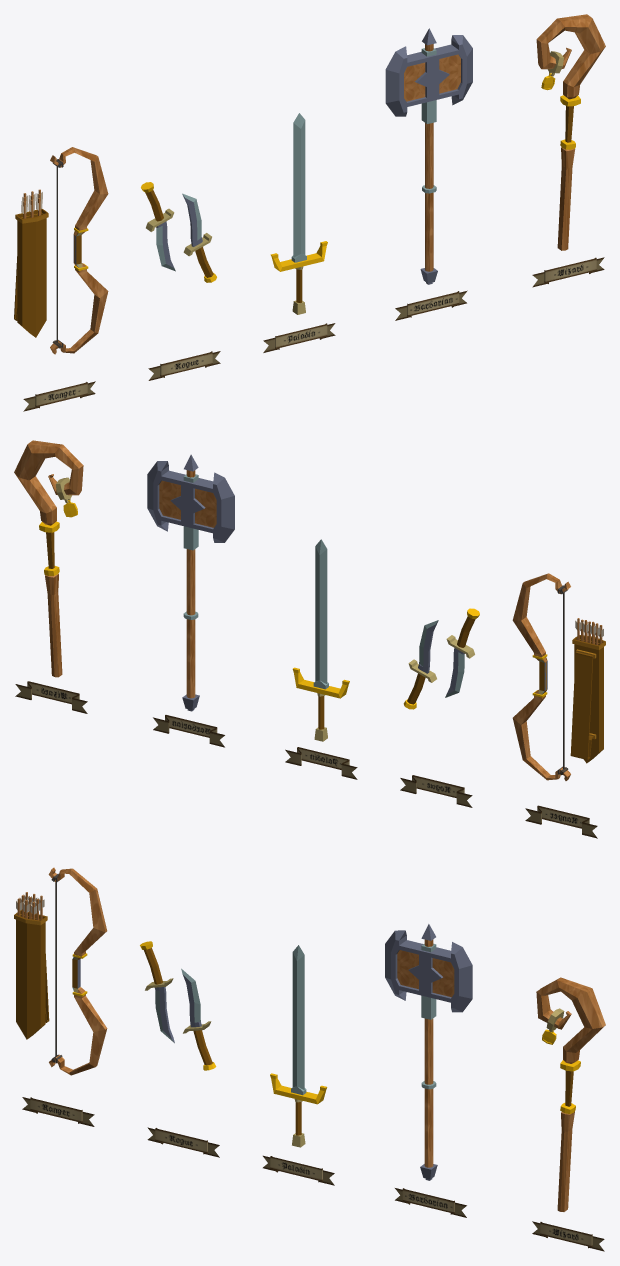
Rendered from Dnd weaps3.fbx.
3 views of the same model, one above another, from view 1: azimuth 30°, elevation 25°; view 2: azimuth 150°, elevation 25°; view 3: azimuth 330°, elevation 25° (orthographic).
Parts seen in each view (by area): view 1: Cube.011, Cube.013, Cube.025, Cube.022, Cube.005, Cube.009, Cube.020, Cube.032, Cube.007, Cube.028, Cube.033, Cube.010 (+3 smaller); view 2: Cube.011, Cube.013, Cube.022, Cube.026, Cube.005, Cube.025, Cube.009, Cube.007, Cube.020, Cube.032, Cube.033, Cube.028 (+5 smaller); view 3: Cube.011, Cube.013, Cube.025, Cube.022, Cube.005, Cube.009, Cube.028, Cube.020, Cube.007, Cube.033, Cube.032, Cube.010 (+4 smaller).
Part boxes in pixels (left/top/right/bottom): Cube.011: left=385, top=35, right=472, bottom=116; Cube.013: left=536, top=14, right=605, bottom=250; Cube.025: left=15, top=208, right=48, bottom=337; Cube.022: left=50, top=147, right=108, bottom=354; Cube.005: left=291, top=113, right=306, bottom=262; Cube.009: left=425, top=44, right=433, bottom=271; Cube.020: left=148, top=351, right=220, bottom=380; Cube.032: left=395, top=290, right=467, bottom=320; Cube.007: left=263, top=323, right=335, bottom=352; Cube.028: left=23, top=381, right=95, bottom=411; Cube.033: left=532, top=257, right=604, bottom=287; Cube.010: left=421, top=28, right=436, bottom=193; Cube.011: left=147, top=461, right=234, bottom=542; Cube.013: left=14, top=440, right=83, bottom=677; Cube.022: left=512, top=573, right=570, bottom=780; Cube.026: left=570, top=649, right=596, bottom=759; Cube.005: left=313, top=539, right=328, bottom=689; Cube.025: left=572, top=635, right=605, bottom=763; Cube.009: left=186, top=470, right=195, bottom=698; Cube.007: left=285, top=747, right=357, bottom=779; Cube.020: left=400, top=775, right=472, bottom=807; Cube.032: left=153, top=715, right=224, bottom=747; Cube.033: left=15, top=681, right=87, bottom=713; Cube.028: left=525, top=805, right=597, bottom=838; Cube.011: left=385, top=930, right=472, bottom=1012; Cube.013: left=536, top=977, right=605, bottom=1211; Cube.025: left=14, top=910, right=47, bottom=1039; Cube.022: left=48, top=867, right=107, bottom=1075; Cube.005: left=291, top=945, right=306, bottom=1095; Cube.009: left=424, top=939, right=433, bottom=1167; Cube.028: left=22, top=1097, right=94, bottom=1126; Cube.020: left=147, top=1127, right=219, bottom=1157; Cube.007: left=263, top=1155, right=334, bottom=1185; Cube.033: left=532, top=1221, right=604, bottom=1251; Cube.032: left=395, top=1188, right=466, bottom=1217; Cube.010: left=421, top=924, right=436, bottom=1089.
Size of the model in its own units: 693 by 321 by 31.02.
Materials: 2 (2 with a texture image).
